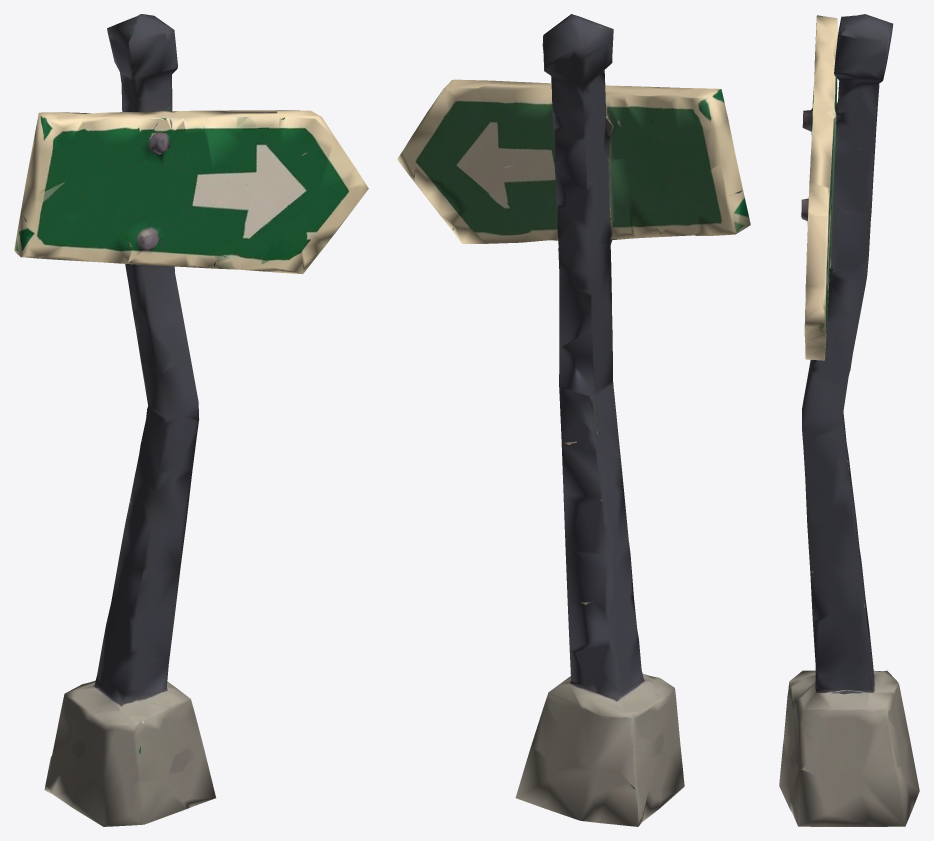
File: placa.glb
3 renders of one model, left to right at view 1: azimuth 30°, elevation 25°; view 2: azimuth 150°, elevation 25°; view 3: azimuth 270°, elevation 25°, orthographic. The views are drawn at different scales.
Size of the model in its own units: 0.8897 by 1.9 by 0.3056.
1 material, 1 textured.
